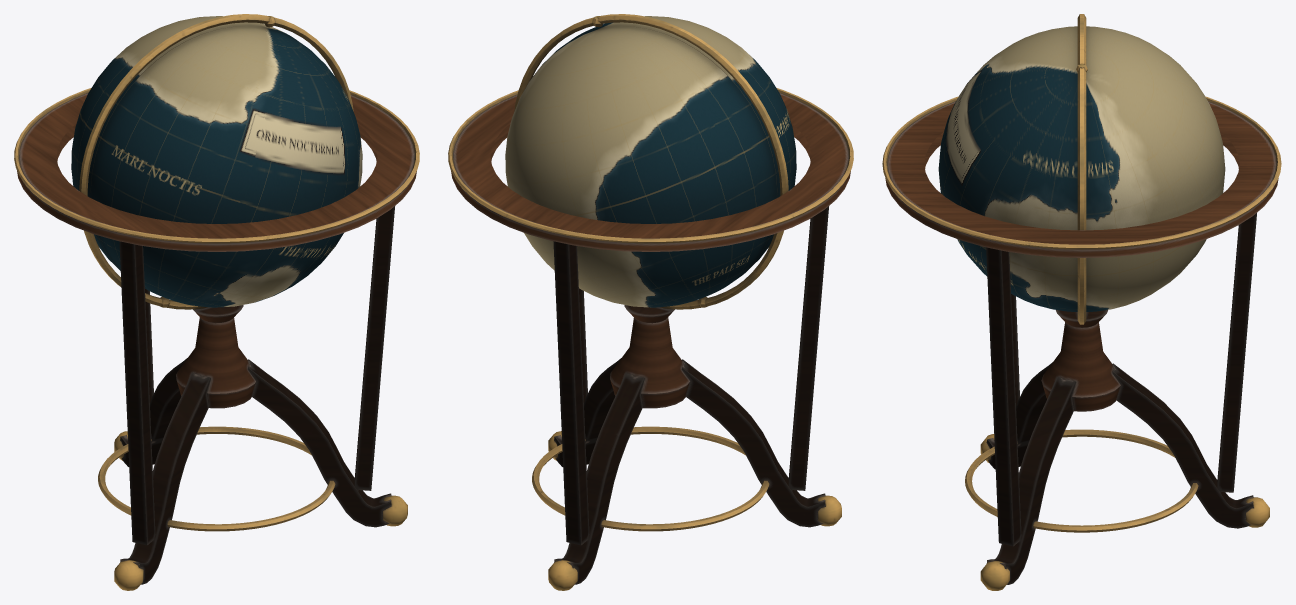
File: TerrestrialGlobe.fbx
3 renders of one model, left to right at view 1: azimuth 30°, elevation 25°; view 2: azimuth 150°, elevation 25°; view 3: azimuth 270°, elevation 25°, orthographic.
Parts seen in each view (by area): view 1: TerrestrialGlobe_Main, TerrestrialGlobe_Globe; view 2: TerrestrialGlobe_Main, TerrestrialGlobe_Globe; view 3: TerrestrialGlobe_Main, TerrestrialGlobe_Globe.
Boxes of the visible parts, x1,y1,x2,y2 form: TerrestrialGlobe_Main: (14,14,419,590); TerrestrialGlobe_Globe: (71,16,362,307); TerrestrialGlobe_Main: (448,14,853,590); TerrestrialGlobe_Globe: (505,16,796,307); TerrestrialGlobe_Main: (882,14,1281,590); TerrestrialGlobe_Globe: (938,26,1225,311).
Size of the model in its own units: 334 by 460 by 334.
